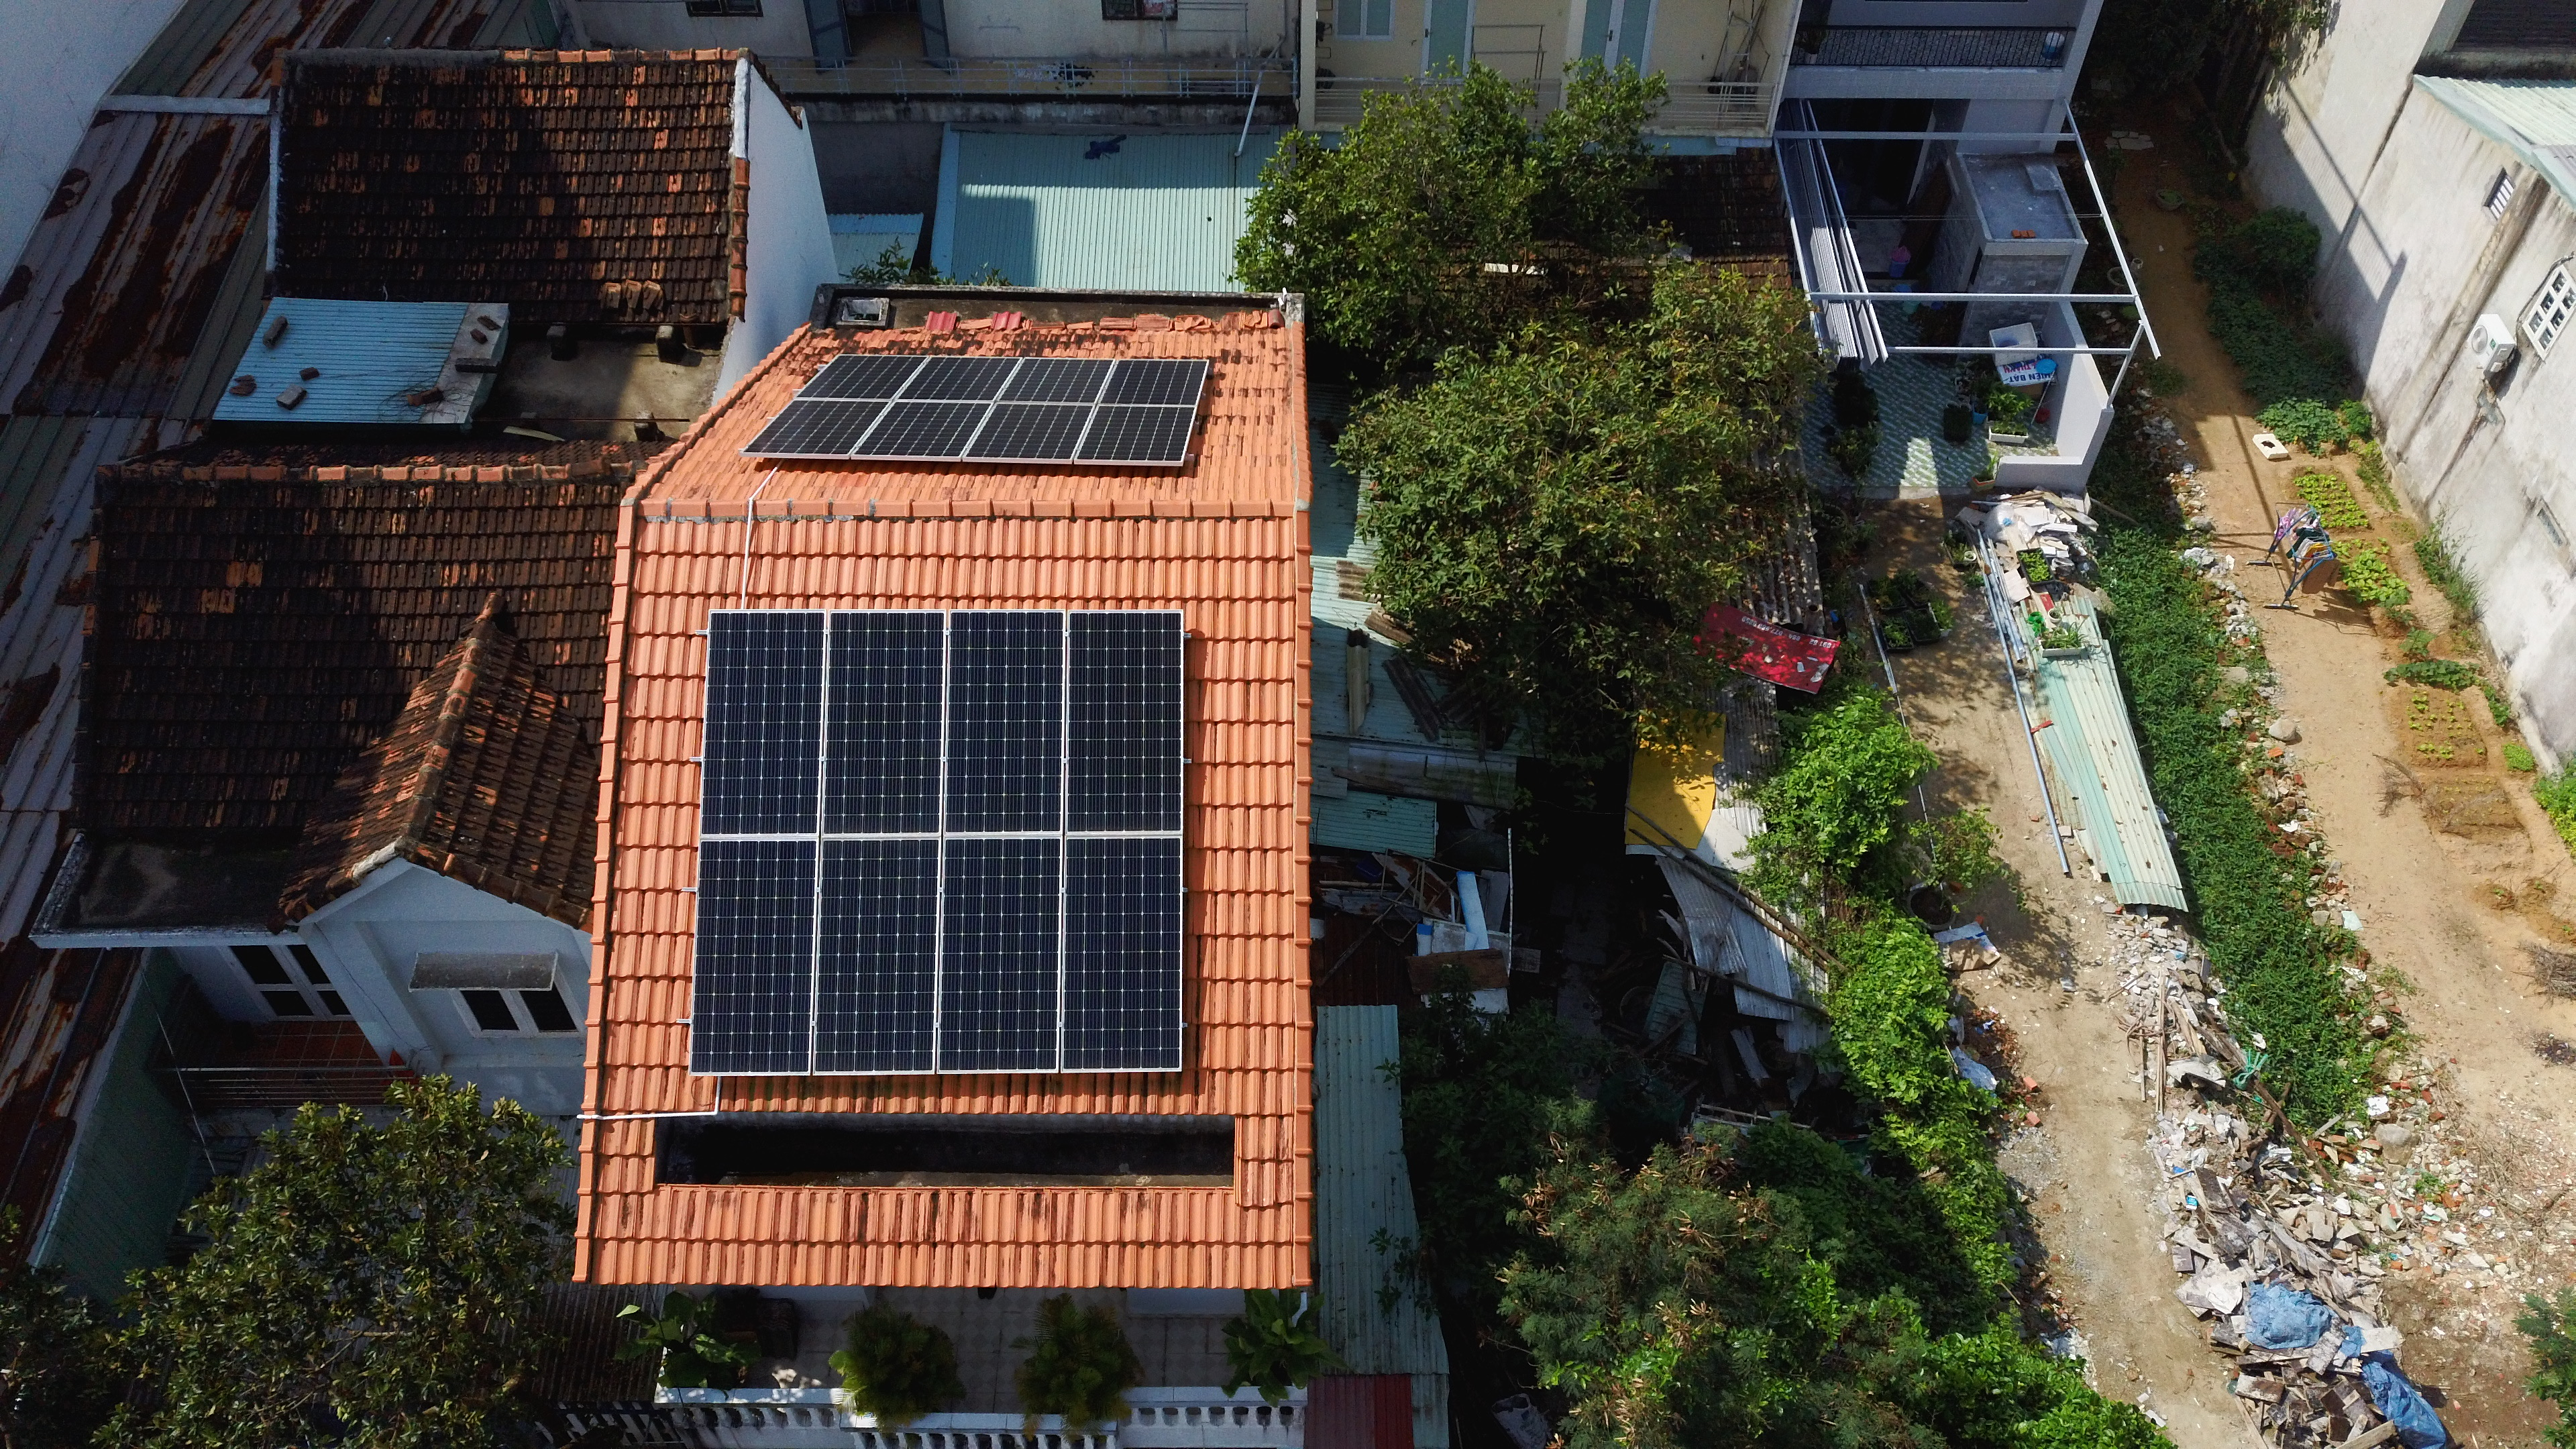solar: (686, 837, 817, 1077), (812, 835, 943, 1076), (932, 835, 1063, 1074), (1056, 835, 1187, 1074), (817, 605, 947, 839), (938, 605, 1067, 839), (1060, 610, 1189, 844), (702, 607, 826, 837), (740, 398, 893, 460), (847, 398, 996, 462), (959, 402, 1097, 465), (1072, 405, 1196, 467), (794, 354, 931, 402), (893, 354, 1024, 403), (994, 356, 1118, 405), (1099, 357, 1210, 407)
